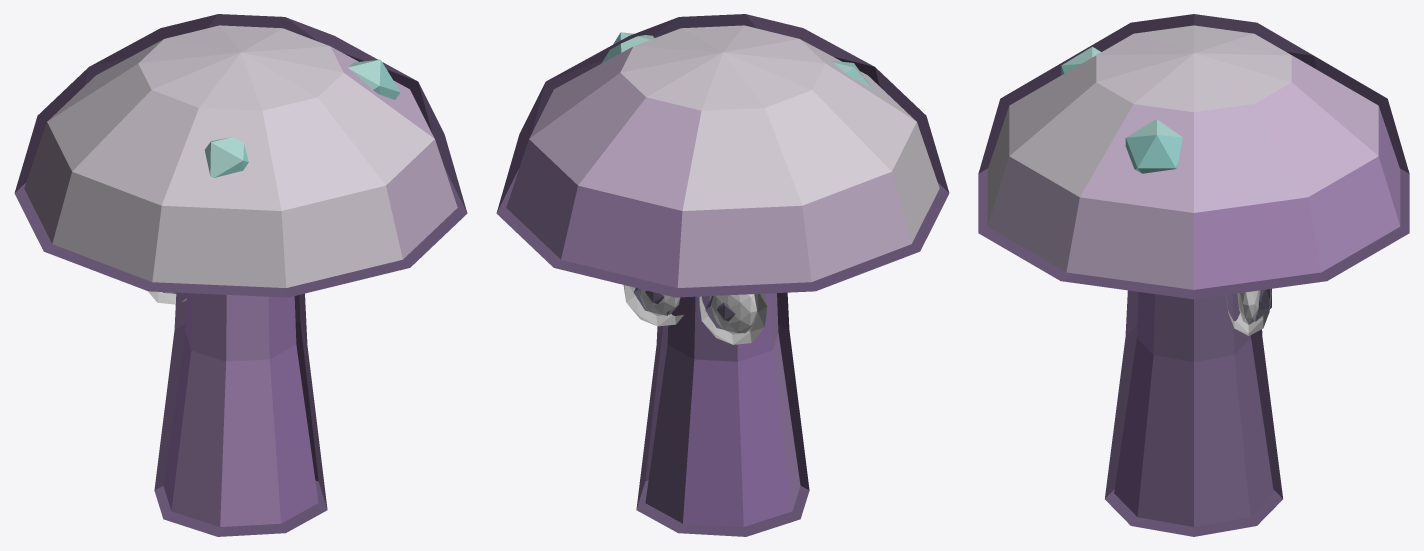
Rendered from enemy_pod.glb.
3 views of the same model, side by side, from view 1: azimuth 30°, elevation 25°; view 2: azimuth 150°, elevation 25°; view 3: azimuth 270°, elevation 25° (orthographic).
Parts seen in each view (by area): view 1: enemy_pod; view 2: enemy_pod; view 3: enemy_pod.
Part boxes in pixels (x1,y1,x2,y2): enemy_pod: (14, 14, 467, 536); enemy_pod: (496, 14, 949, 536); enemy_pod: (978, 14, 1409, 536).
Size of what is drawn, in the model's own units: 3.97 by 4.45 by 3.78.
